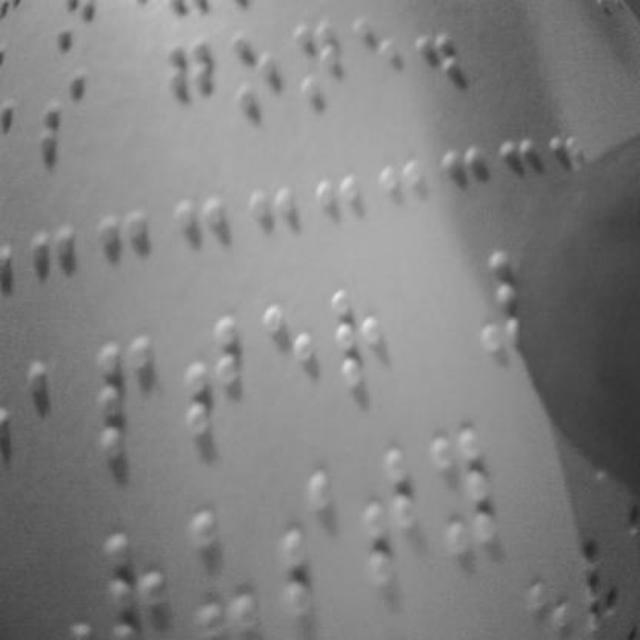braiile: (186, 488, 262, 640), (274, 468, 346, 622), (90, 331, 166, 472), (430, 420, 498, 556), (361, 439, 422, 586), (326, 274, 396, 402), (256, 290, 320, 426), (181, 314, 247, 442), (22, 346, 82, 474), (34, 49, 90, 169), (164, 29, 220, 142), (291, 12, 349, 118), (224, 26, 280, 124), (352, 10, 404, 110)
